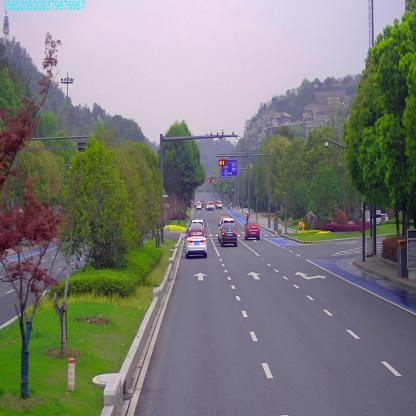traffic-light: (219, 158, 228, 166)
